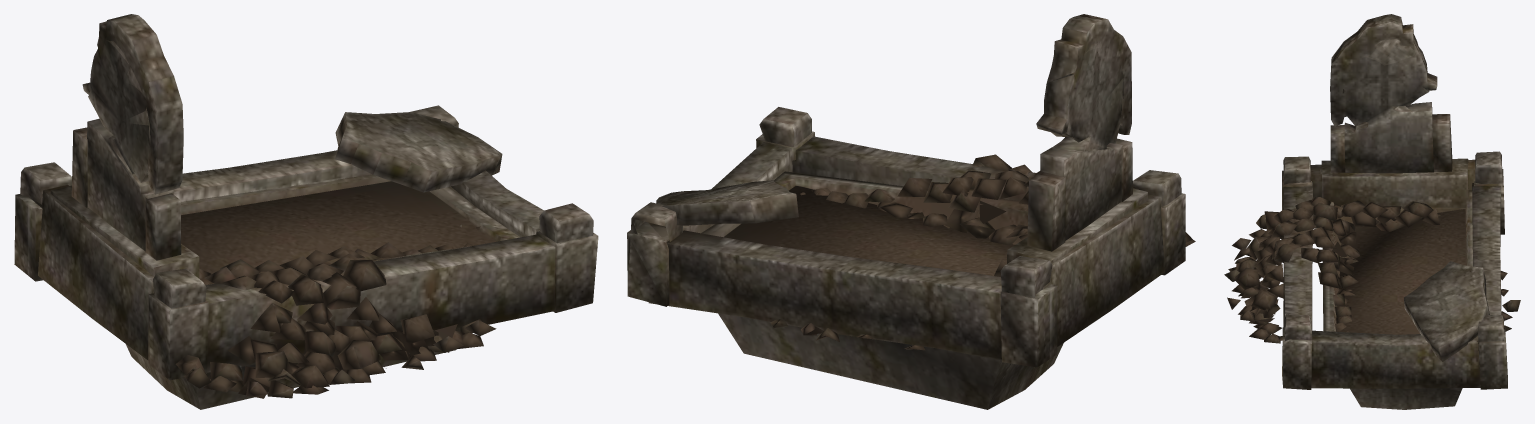
File: h_grave_A_destroyed.glb
3 renders of one model, left to right at view 1: azimuth 30°, elevation 25°; view 2: azimuth 150°, elevation 25°; view 3: azimuth 270°, elevation 25°, orthographic. The views are drawn at different scales.
Parts seen in each view (by area): view 1: h_grave_A_destroyed; view 2: h_grave_A_destroyed; view 3: h_grave_A_destroyed.
Part boxes in pixels (left/top/right/bottom): h_grave_A_destroyed: left=14, top=14, right=598, bottom=409; h_grave_A_destroyed: left=627, top=14, right=1195, bottom=409; h_grave_A_destroyed: left=1224, top=14, right=1520, bottom=409.
Size of the model in its own units: 1.4 by 1.2 by 1.14.
Materials: 1 (1 with a texture image).
